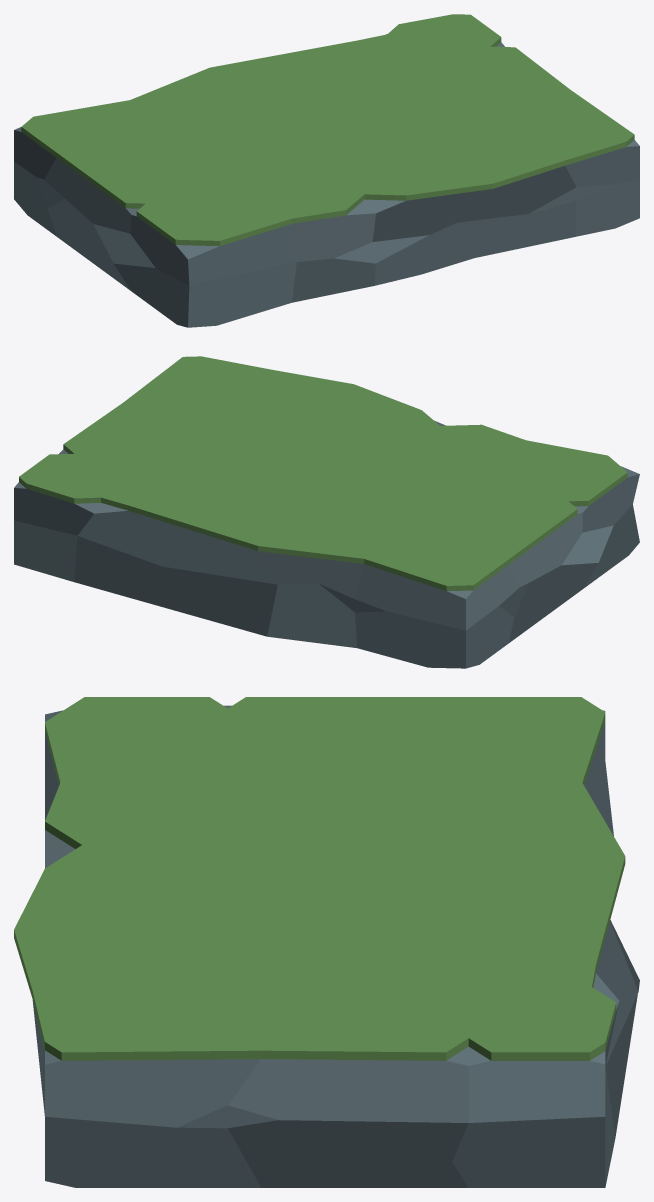
Rendered from StonePlatform(6x4x1).fbx.
The picture shows the model from 3 angles, top to bottom: view 1: azimuth 30°, elevation 25°; view 2: azimuth 150°, elevation 25°; view 3: azimuth 270°, elevation 25°; orthographic projection. The views are drawn at different scales.
Parts seen in each view (by area): view 1: rock; view 2: rock; view 3: rock.
Boxes of the visible parts, box(x1,y1,x2,y2) form: rock: box(14, 14, 639, 327); rock: box(14, 356, 639, 668); rock: box(14, 697, 639, 1187).
Size of the model in its own units: 650 by 107 by 447.
